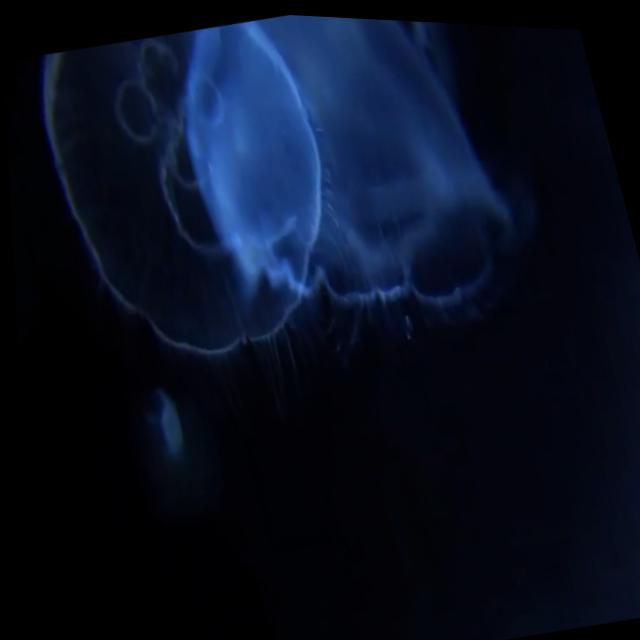Moon-jellyfish: (261, 12, 530, 329), (49, 22, 301, 349)
